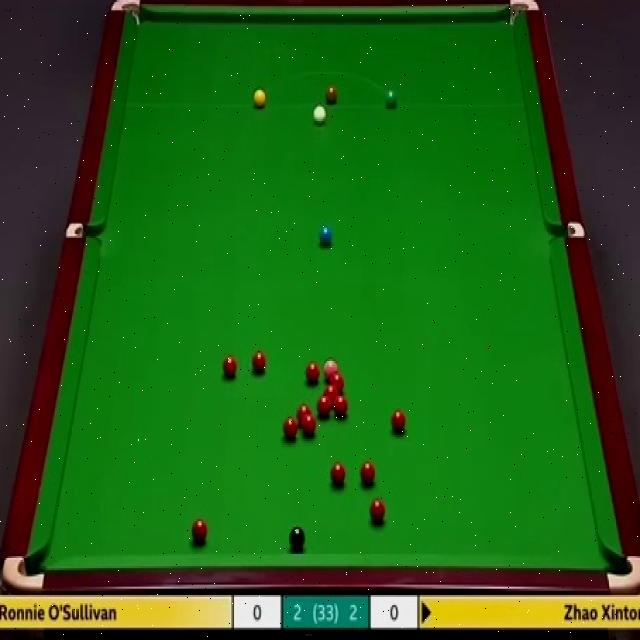black-ball: (289, 523, 305, 552)
blue-ball: (318, 224, 333, 249)
brown-ball: (325, 86, 337, 105)
green-ball: (385, 89, 397, 108)
pink-ball: (324, 358, 339, 376)
red-ball: (368, 498, 386, 525), (192, 518, 210, 544), (305, 361, 321, 386), (360, 462, 376, 485), (222, 354, 237, 378), (391, 411, 407, 433), (252, 350, 266, 375), (302, 414, 317, 436), (331, 463, 346, 485), (283, 417, 298, 438), (316, 396, 332, 415), (334, 396, 349, 416), (296, 402, 311, 420), (322, 384, 340, 398), (329, 374, 346, 386)
white-ball: (312, 104, 328, 126)
yellow-ball: (253, 87, 267, 109)
